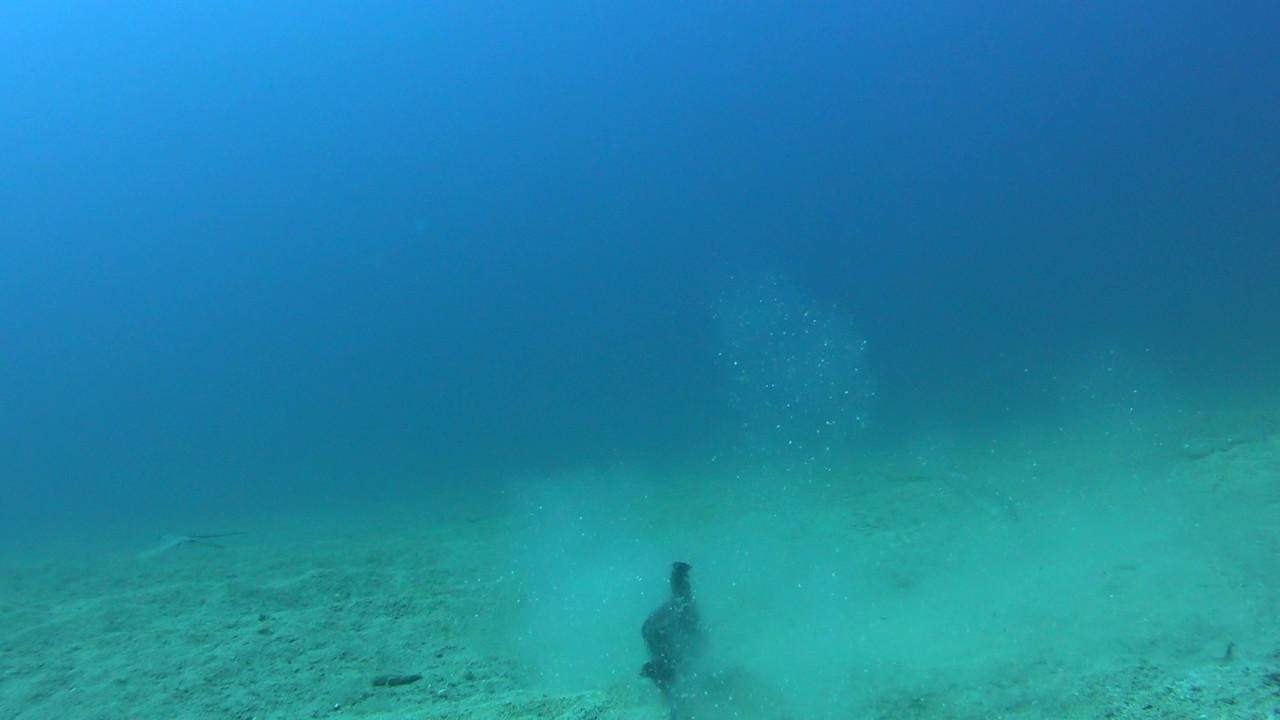myliobatis: (122, 523, 254, 563)
